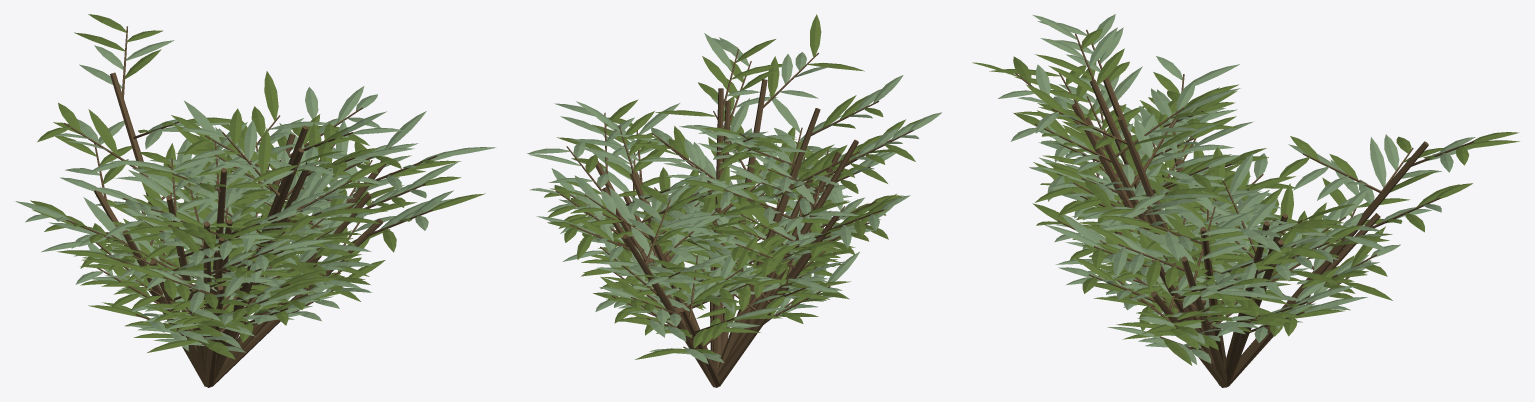
File: bush_sage.glb
The picture shows the model from 3 angles, left to right: view 1: azimuth 30°, elevation 25°; view 2: azimuth 150°, elevation 25°; view 3: azimuth 270°, elevation 25°; orthographic projection. The views are drawn at different scales.
Visible parts, largest first — view 1: bush_sage; view 2: bush_sage; view 3: bush_sage.
Part boxes in pixels (x1,y1,x2,y2): bush_sage: (15, 14, 496, 387); bush_sage: (527, 14, 941, 387); bush_sage: (972, 14, 1519, 387).
Size of the model in its own units: 1.33 by 0.9733 by 1.47.
